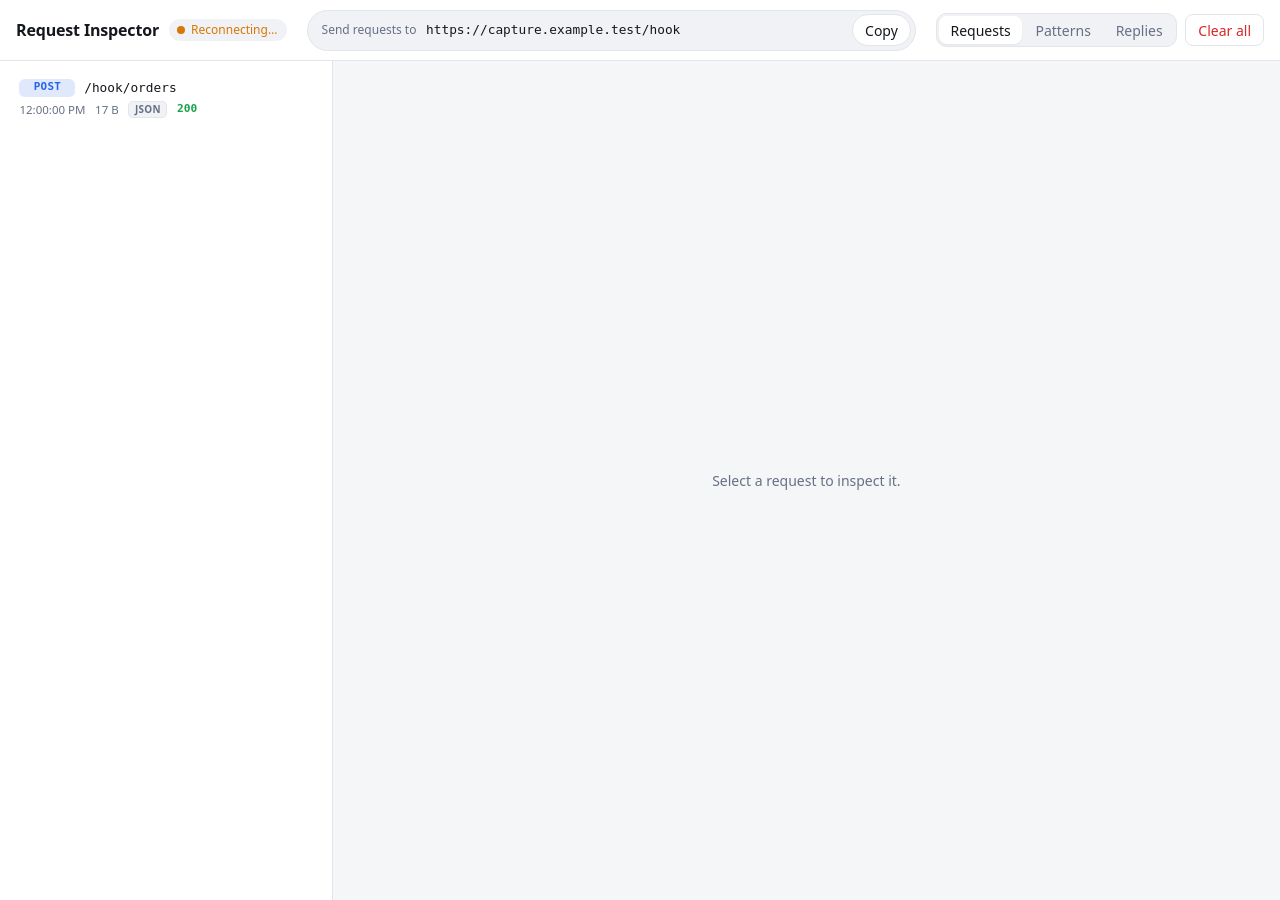
Test case: request list and detail › shows an error when the selected request no longer exists
Step 1. Click the text "/hook/orders" → click(130, 88), box [84,78,177,97]
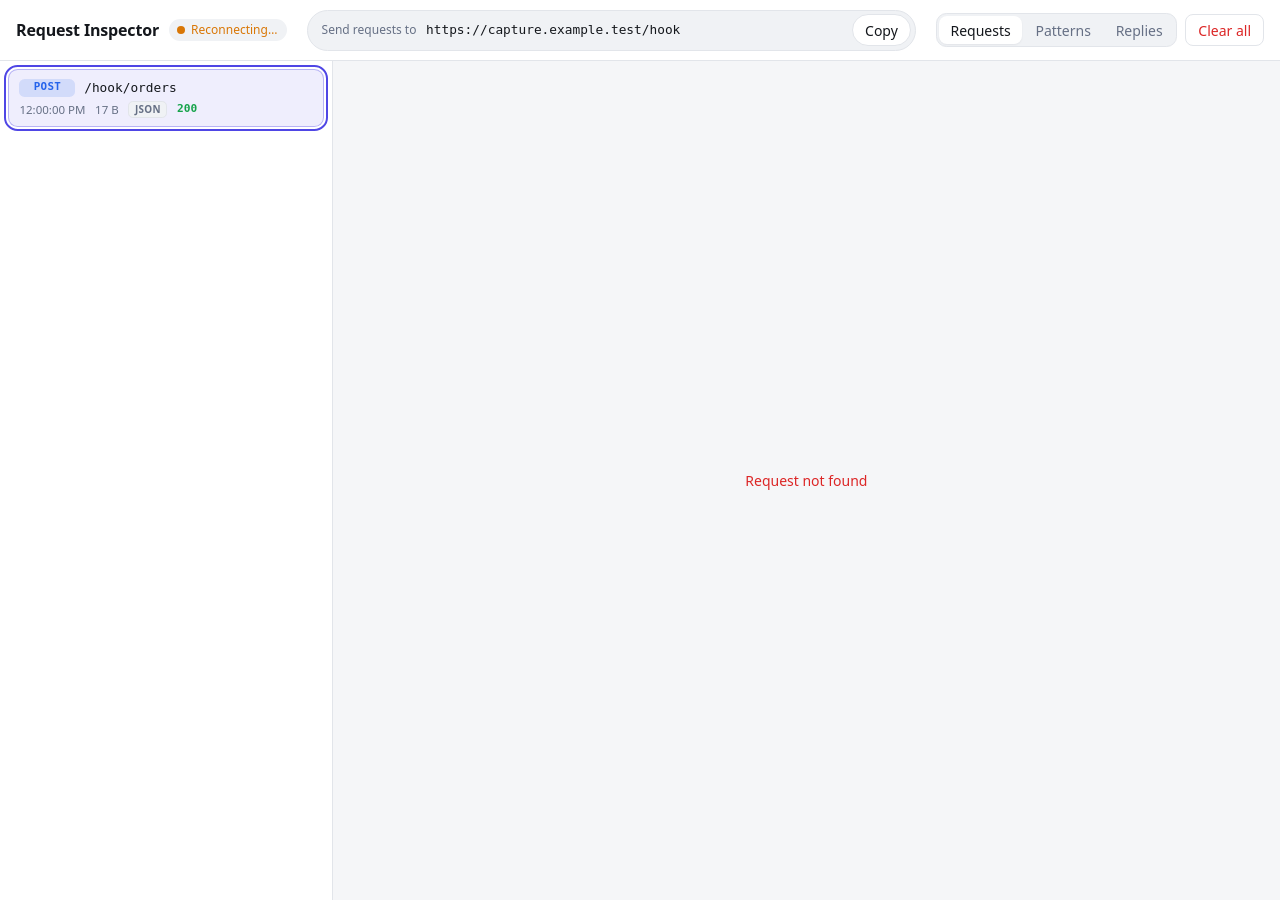
Now the message reads "Request not found", box [745,471,868,490]
